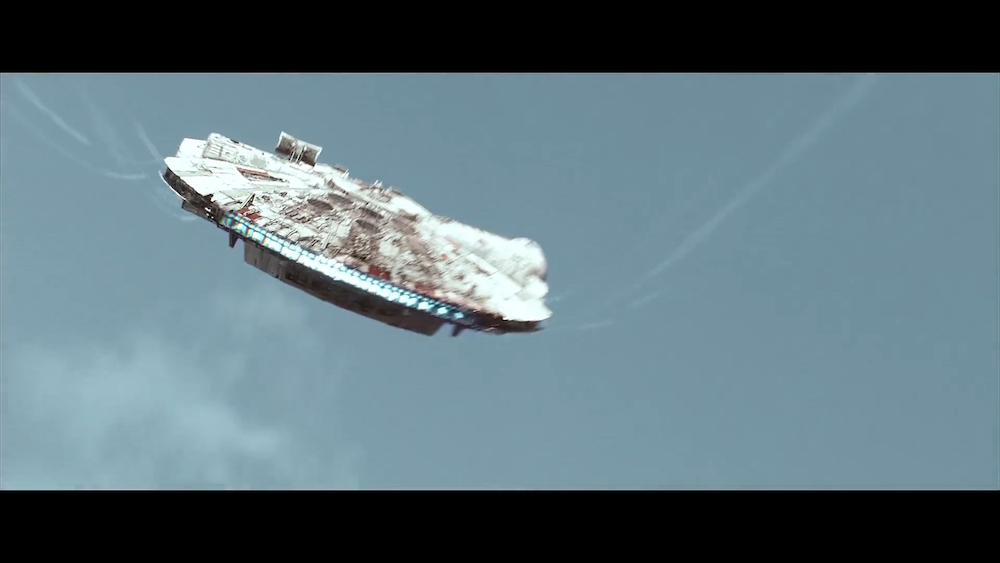Millennium Falcon: (157, 130, 555, 343)
